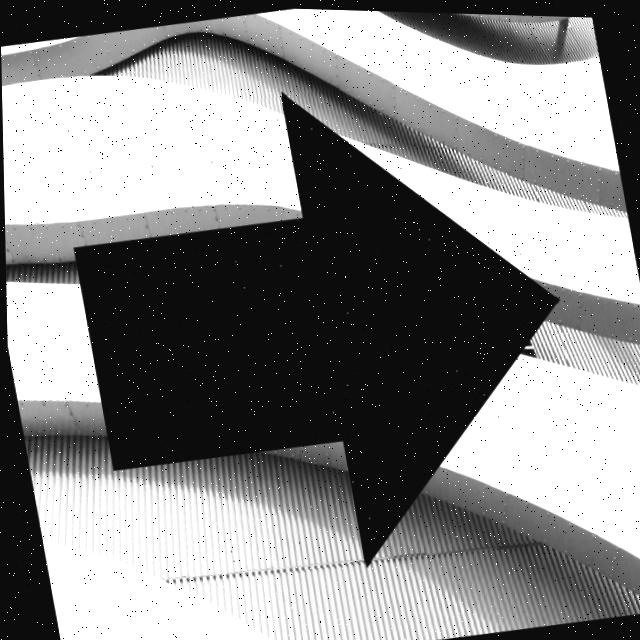RIGHT: (74, 95, 556, 560)
